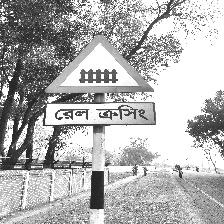Rail-crossing: (43, 35, 157, 129)
